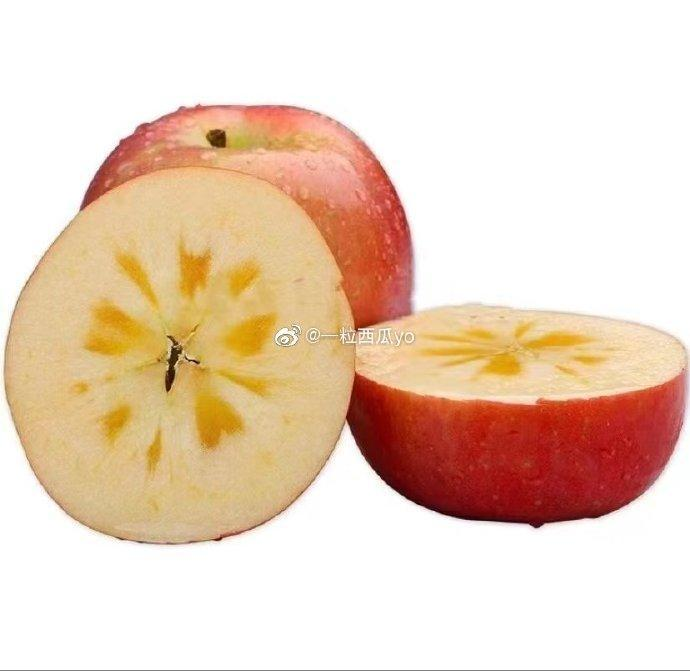apple: (72, 100, 412, 362)
